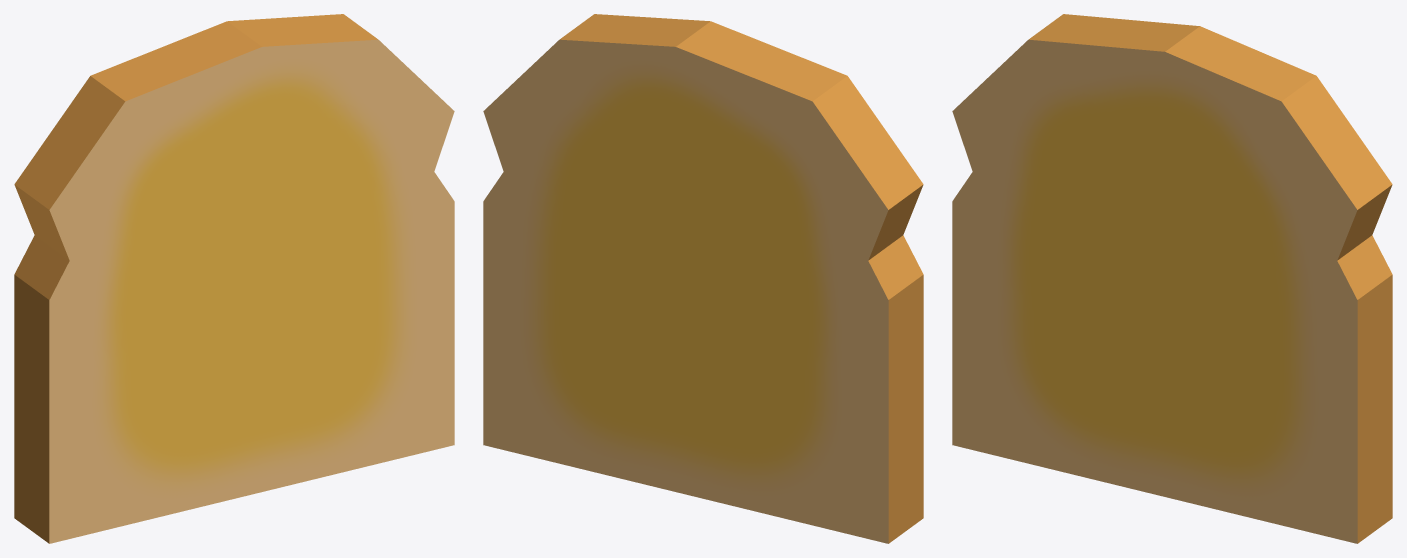
File: buttered-bread.fbx
3 views of the same model, side by side, from view 1: azimuth 30°, elevation 25°; view 2: azimuth 150°, elevation 25°; view 3: azimuth 330°, elevation 25° (orthographic).
Parts seen in each view (by area): view 1: Node; view 2: Node; view 3: Node.
Part boxes in pixels (x1,y1,x2,y2): Node: [14, 14, 454, 543]; Node: [483, 14, 923, 543]; Node: [952, 14, 1392, 543].
Bounding box in the file's own units: 20 × 21 × 3.
Materials: 2 (1 with a texture image).
